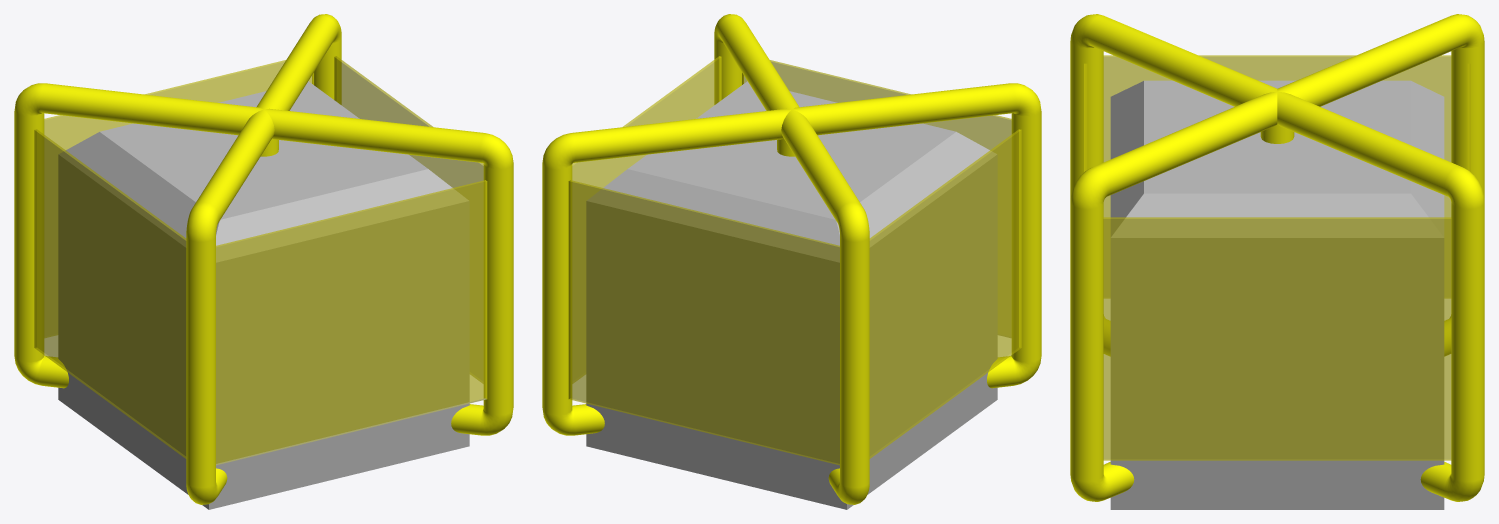
File: Mirror.glb
3 views of the same model, side by side, from view 1: azimuth 30°, elevation 25°; view 2: azimuth 150°, elevation 25°; view 3: azimuth 270°, elevation 25° (orthographic). The views are drawn at different scales.
Visible parts, largest first — view 1: Solide1; view 2: Solide1; view 3: Solide1.
Part boxes in pixels (x1,y1,x2,y2): Solide1: (14, 14, 513, 509); Solide1: (542, 14, 1041, 509); Solide1: (1070, 14, 1484, 509).
Size of the model in its own units: 1.24 by 1.15 by 1.24.
